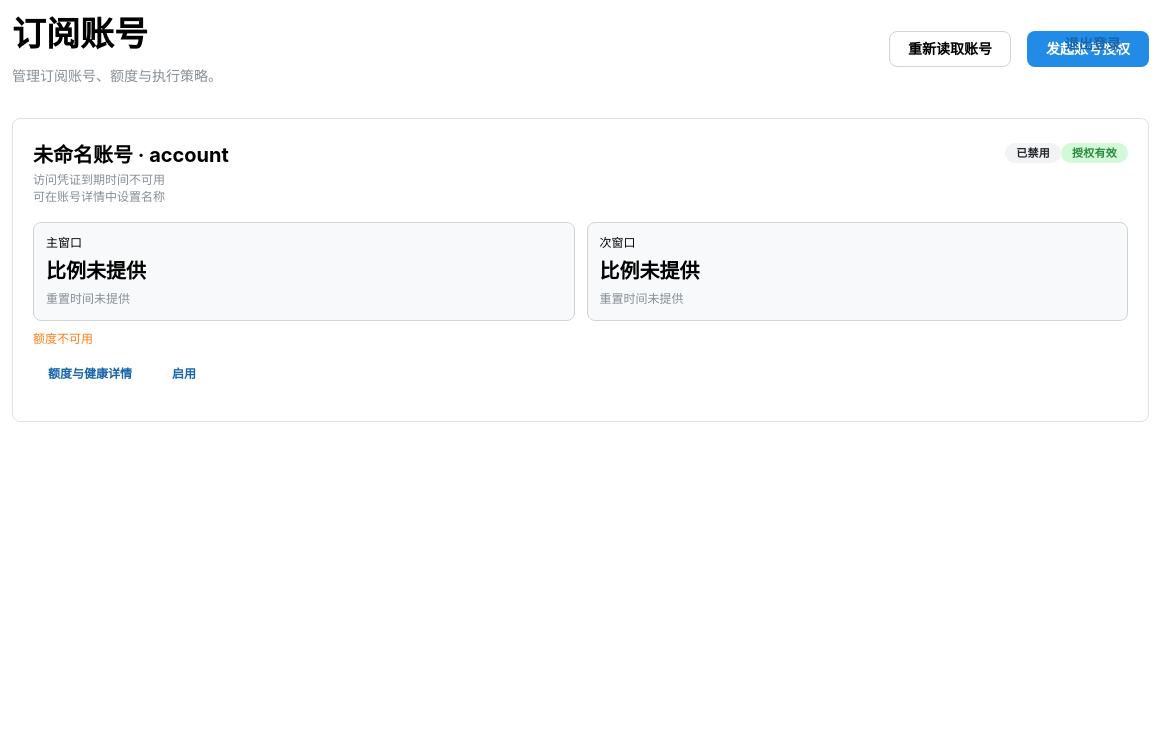
Scenario: locks writes after unknown results until a successful account read
Click the button "启用". click: (184, 374)
box: [157,360,211,390]
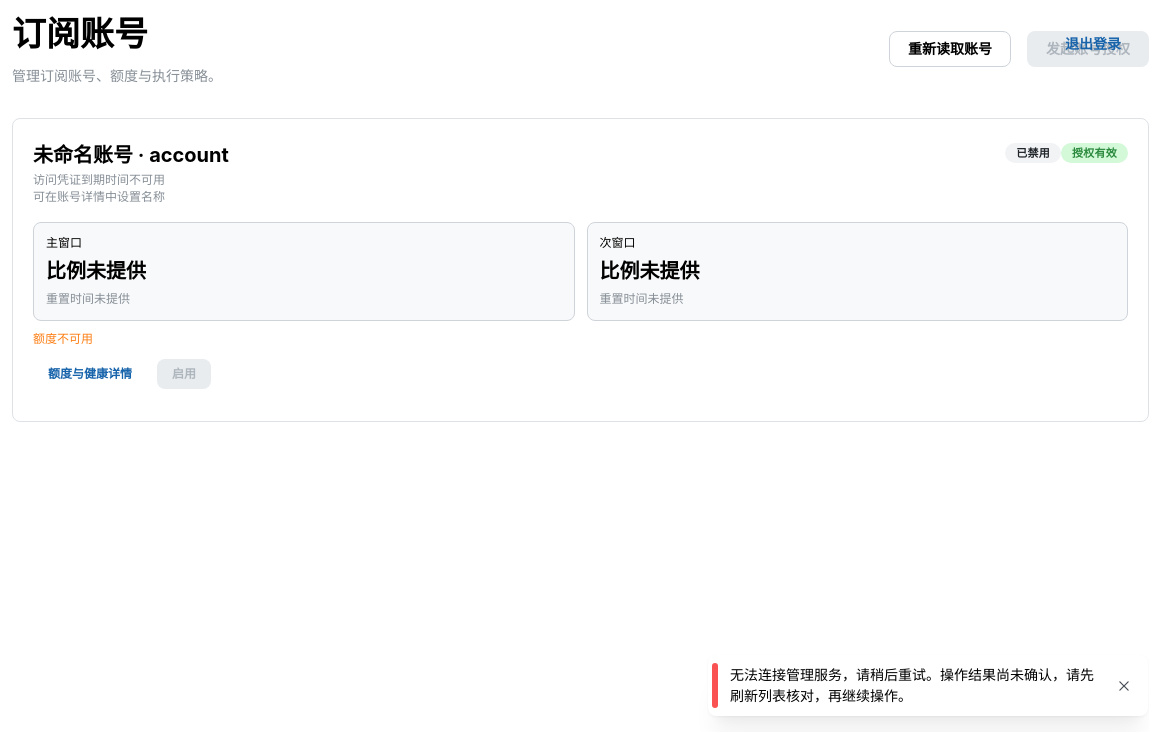
Expected: the text "无法连接管理服务，请稍后重试。操作结果尚未确认，请先刷新列表核对，再继续操作。" is shown, [730,665,1100,706]
Expected: the button "启用" is disabled, [157,360,211,390]
Click the button "重新读取账号". click: (950, 49)
box: [889,31,1011,67]
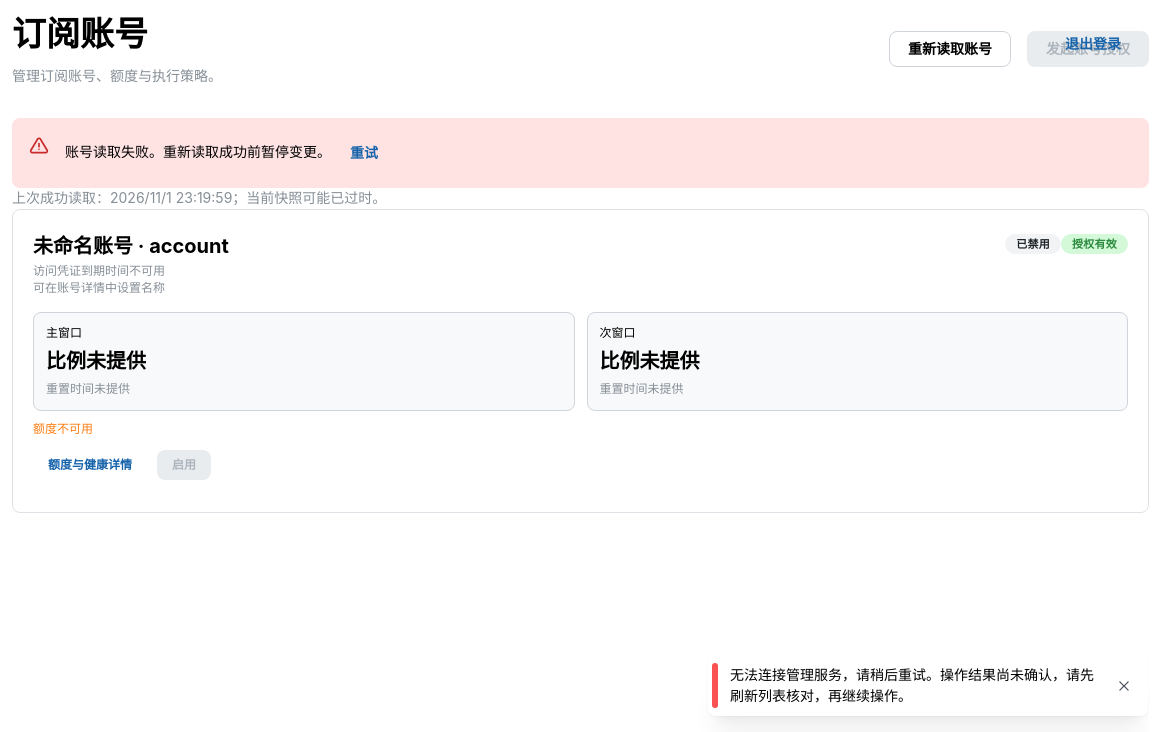
Expected: the button "启用" is disabled, [157,450,211,480]
Expected: the text "账号读取失败。重新读取成功前暂停变更。 重试" is shown, [65,136,397,172]
Click the button "重新读取账号". click: (950, 49)
box: [889,31,1011,67]
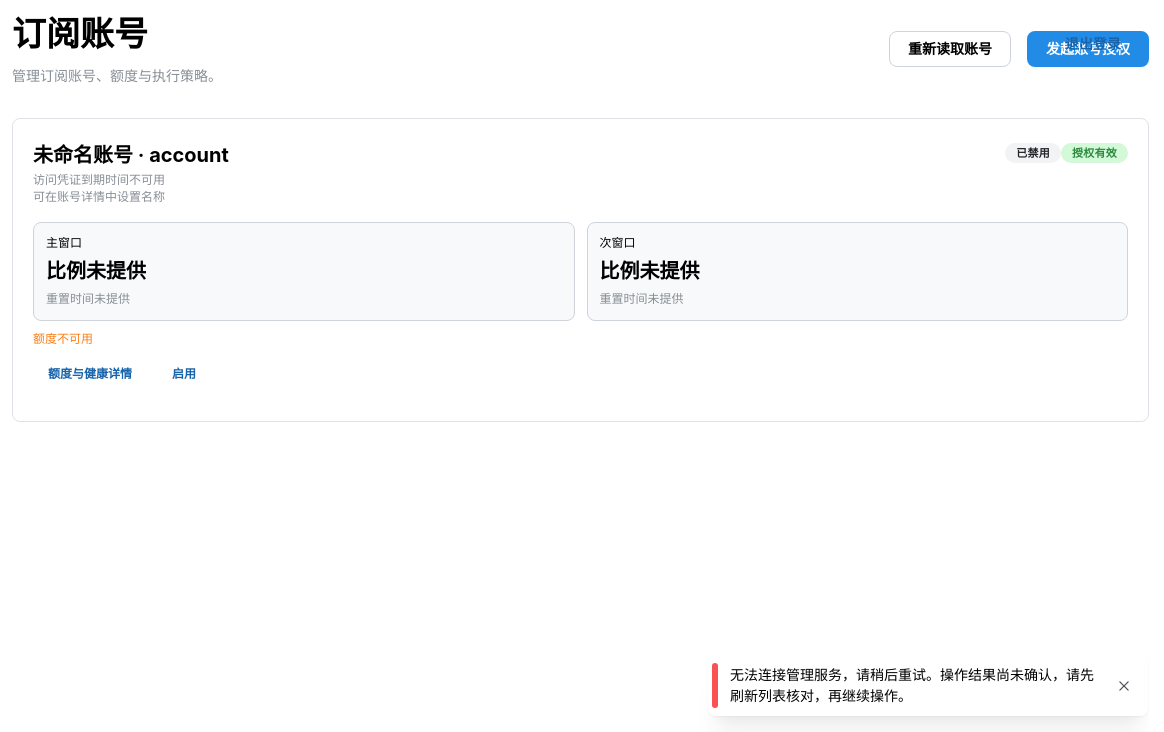
Expected: the button "启用" is enabled, [157,360,211,390]
